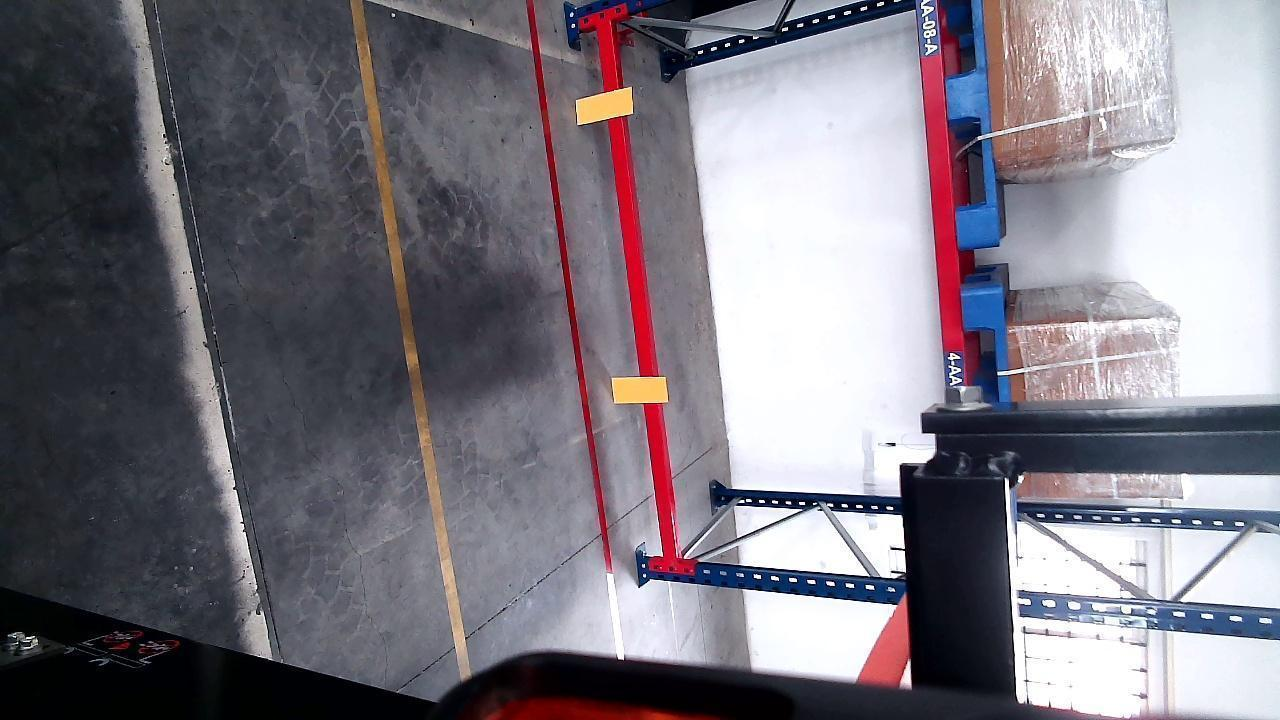red_line: (534, 0, 612, 602)
yellow_line: (349, 0, 476, 672)
